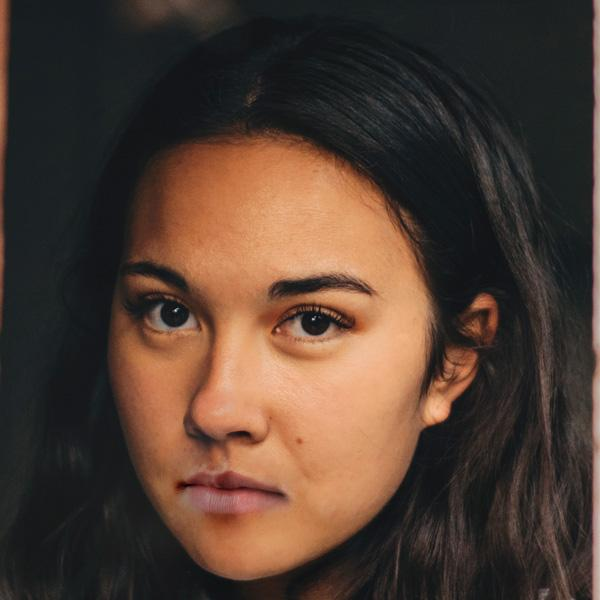Eyes: (262, 299, 363, 356), (122, 286, 211, 345)
